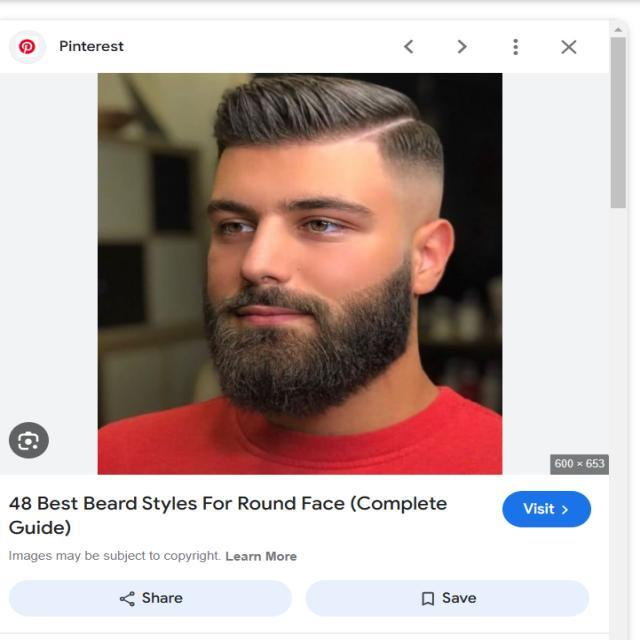face_no_mask: (207, 139, 458, 358)
